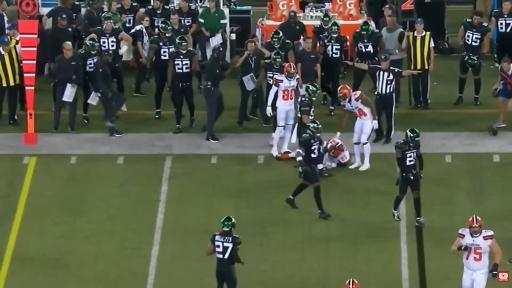Helmet: (327, 139, 345, 157), (468, 215, 482, 236), (307, 120, 322, 136), (305, 83, 319, 99), (338, 85, 352, 100), (84, 38, 98, 53), (176, 35, 189, 51), (158, 20, 171, 36), (270, 30, 283, 46), (271, 50, 283, 67), (222, 216, 236, 230), (406, 128, 419, 143), (464, 55, 479, 68), (284, 63, 296, 79), (102, 12, 113, 28), (321, 12, 332, 28), (360, 21, 371, 34), (212, 45, 222, 58), (330, 22, 340, 35), (367, 18, 377, 30), (345, 279, 358, 287)
Jersey: (458, 229, 494, 271), (211, 233, 241, 268), (462, 19, 490, 56), (94, 28, 123, 63), (352, 30, 382, 62), (341, 91, 373, 120), (170, 49, 195, 83), (150, 37, 175, 70), (395, 140, 420, 173), (299, 134, 323, 168), (274, 75, 298, 107), (321, 35, 347, 64), (324, 139, 349, 168), (117, 3, 140, 33), (263, 40, 293, 62), (146, 6, 170, 33), (492, 9, 511, 43), (78, 50, 98, 81), (176, 4, 198, 29), (264, 61, 284, 85), (298, 98, 314, 127), (313, 25, 329, 42), (171, 23, 189, 38)
Player: (286, 120, 330, 219), (451, 215, 502, 287), (454, 11, 491, 105), (90, 13, 132, 94), (338, 85, 377, 170), (393, 129, 424, 226), (267, 63, 298, 157), (168, 36, 198, 133), (147, 21, 175, 119), (319, 22, 348, 115), (207, 216, 243, 287), (78, 38, 98, 123), (350, 21, 385, 64), (292, 83, 319, 138), (490, 0, 511, 65), (297, 83, 319, 137), (176, 0, 199, 50), (263, 30, 295, 63), (264, 51, 284, 101), (146, 0, 170, 34), (117, 0, 140, 33), (323, 139, 349, 168), (312, 12, 332, 49), (313, 13, 331, 49), (345, 279, 359, 287)
